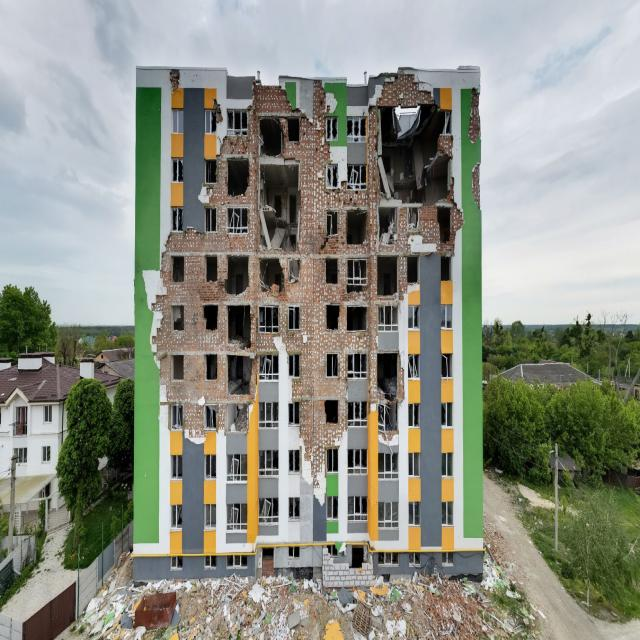broken_window: (227, 503, 248, 530), (378, 453, 399, 478), (227, 453, 246, 480), (228, 110, 248, 135), (346, 164, 366, 189), (379, 503, 399, 527), (259, 402, 278, 427), (260, 498, 278, 524), (348, 353, 368, 376), (347, 117, 366, 141), (348, 496, 367, 520), (348, 449, 367, 473), (260, 355, 278, 380), (347, 403, 366, 426), (260, 452, 279, 474), (377, 553, 400, 569), (171, 209, 183, 233), (325, 118, 338, 140), (409, 303, 420, 329), (205, 504, 216, 530), (206, 454, 216, 482), (408, 404, 420, 427), (171, 159, 183, 182), (206, 161, 217, 186), (327, 496, 338, 521), (227, 555, 248, 568), (172, 404, 183, 428), (442, 403, 453, 426), (408, 355, 419, 378), (442, 354, 454, 375), (172, 504, 182, 529), (172, 454, 182, 479), (289, 495, 300, 517), (206, 110, 216, 134), (441, 305, 451, 329), (289, 402, 299, 423), (327, 450, 338, 469), (290, 450, 299, 472), (170, 554, 182, 570), (206, 555, 218, 569), (410, 551, 421, 566), (289, 545, 300, 560), (326, 542, 337, 556)
building: (131, 63, 484, 589)
damage: (190, 72, 482, 578), (143, 77, 463, 483), (468, 88, 481, 146), (472, 160, 481, 213), (168, 72, 181, 94), (212, 99, 223, 123), (135, 260, 139, 276)
damaged_roof: (255, 76, 281, 87), (386, 70, 415, 77), (169, 68, 181, 73), (313, 77, 322, 81)
other: (134, 59, 485, 591)
roof: (135, 64, 481, 89)
